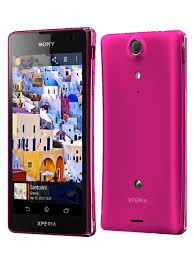sony: (5, 27, 95, 238), (98, 29, 188, 240)
